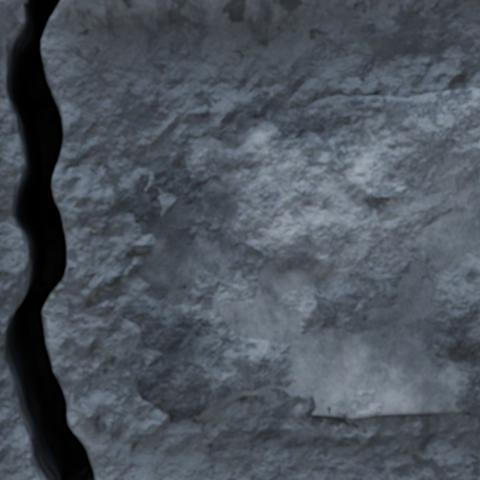brick: (117, 88, 479, 421), (293, 404, 301, 413)
broken_brick: (0, 0, 22, 19)
crack: (0, 0, 97, 479)
